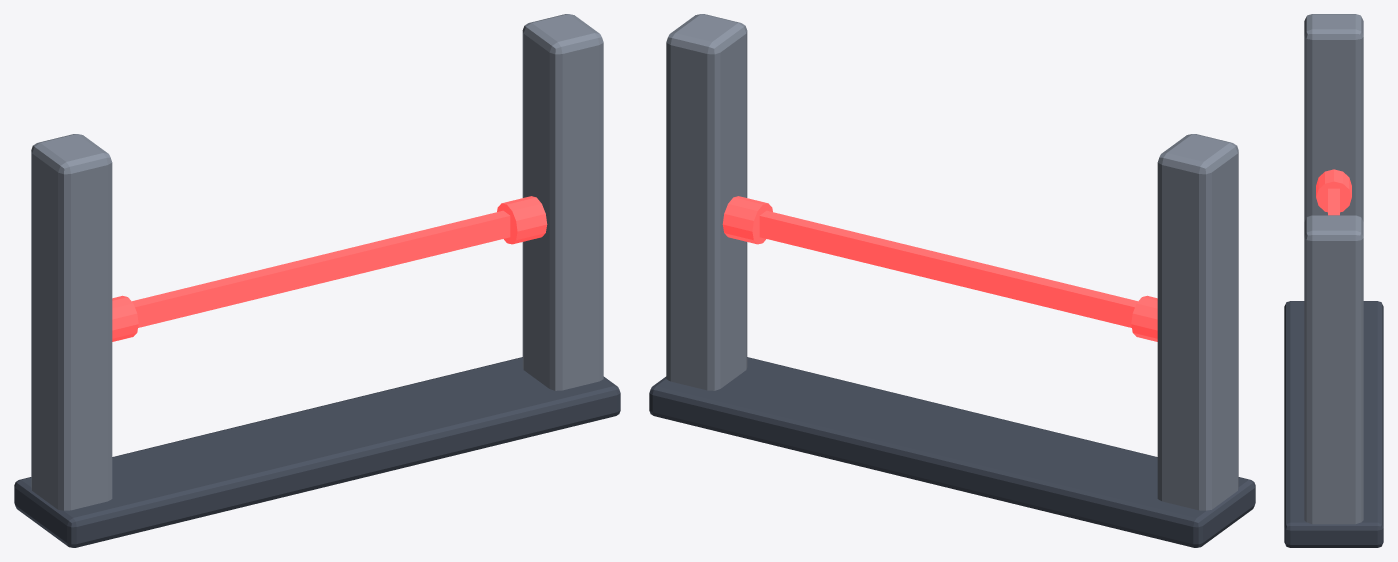
File: trap_laser.glb
3 views of the same model, side by side, from view 1: azimuth 30°, elevation 25°; view 2: azimuth 150°, elevation 25°; view 3: azimuth 270°, elevation 25° (orthographic). The views are drawn at different scales.
Parts seen in each view (by area): view 1: trap_laser; view 2: trap_laser; view 3: trap_laser.
Boxes of the visible parts, <box> form: trap_laser: <box>14,14,620,547</box>; trap_laser: <box>649,14,1255,547</box>; trap_laser: <box>1284,14,1383,547</box>.
Size of the model in its own units: 2.7 by 1.75 by 0.5.
